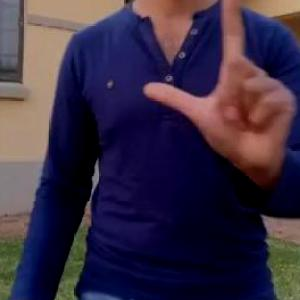land_hand: (139, 0, 299, 176)
